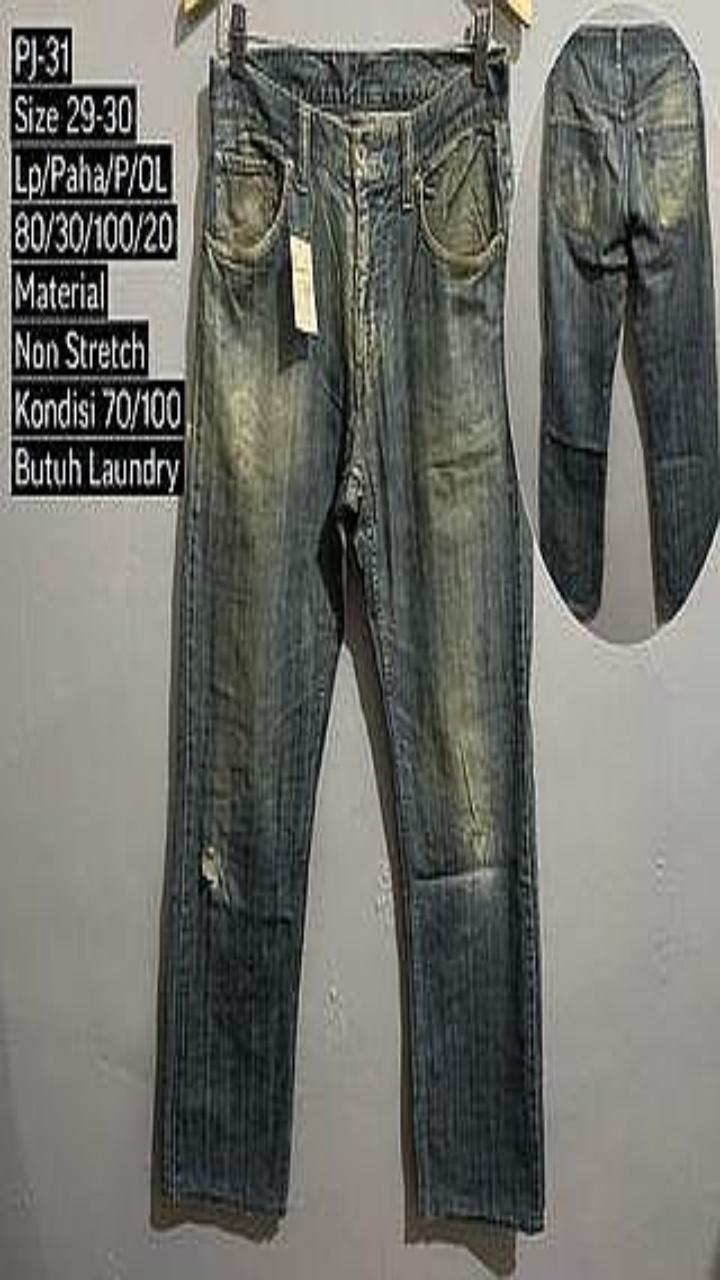Jeans: (159, 45, 543, 1231), (539, 24, 719, 619)
